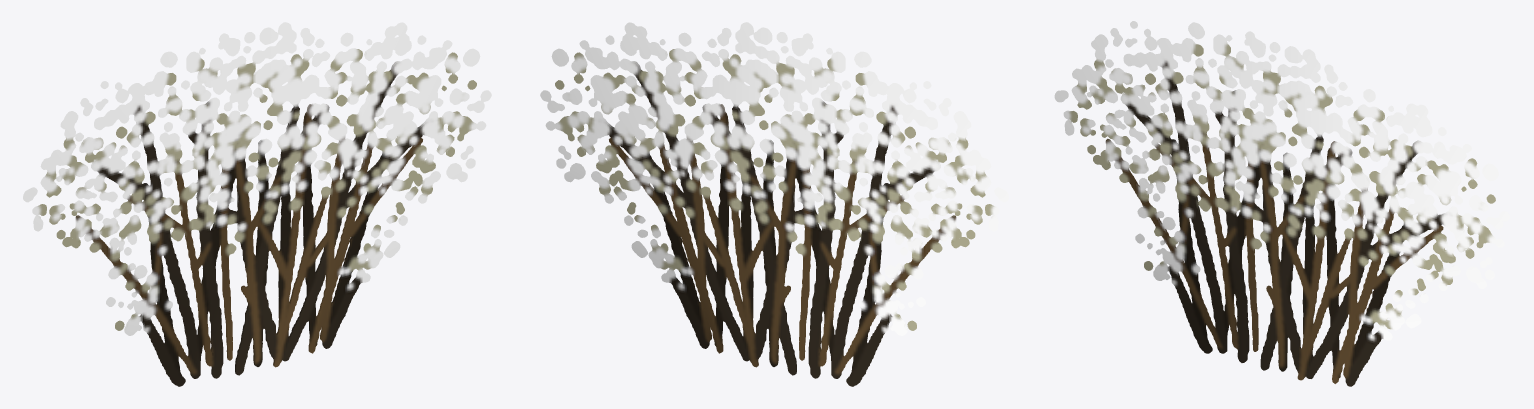
The model's file is HP3_bush021.fbx.
3 renders of one model, left to right at view 1: azimuth 30°, elevation 25°; view 2: azimuth 150°, elevation 25°; view 3: azimuth 330°, elevation 25°, orthographic. The views are drawn at different scales.
Parts seen in each view (by area): view 1: HP3_bush021; view 2: HP3_bush021; view 3: HP3_bush021.
Part boxes in pixels (x1,y1,x2,y2): HP3_bush021: [23, 22, 491, 386]; HP3_bush021: [540, 22, 1008, 386]; HP3_bush021: [1054, 21, 1510, 386].
Size of the model in its own units: 10.11 by 7.19 by 0.04.
